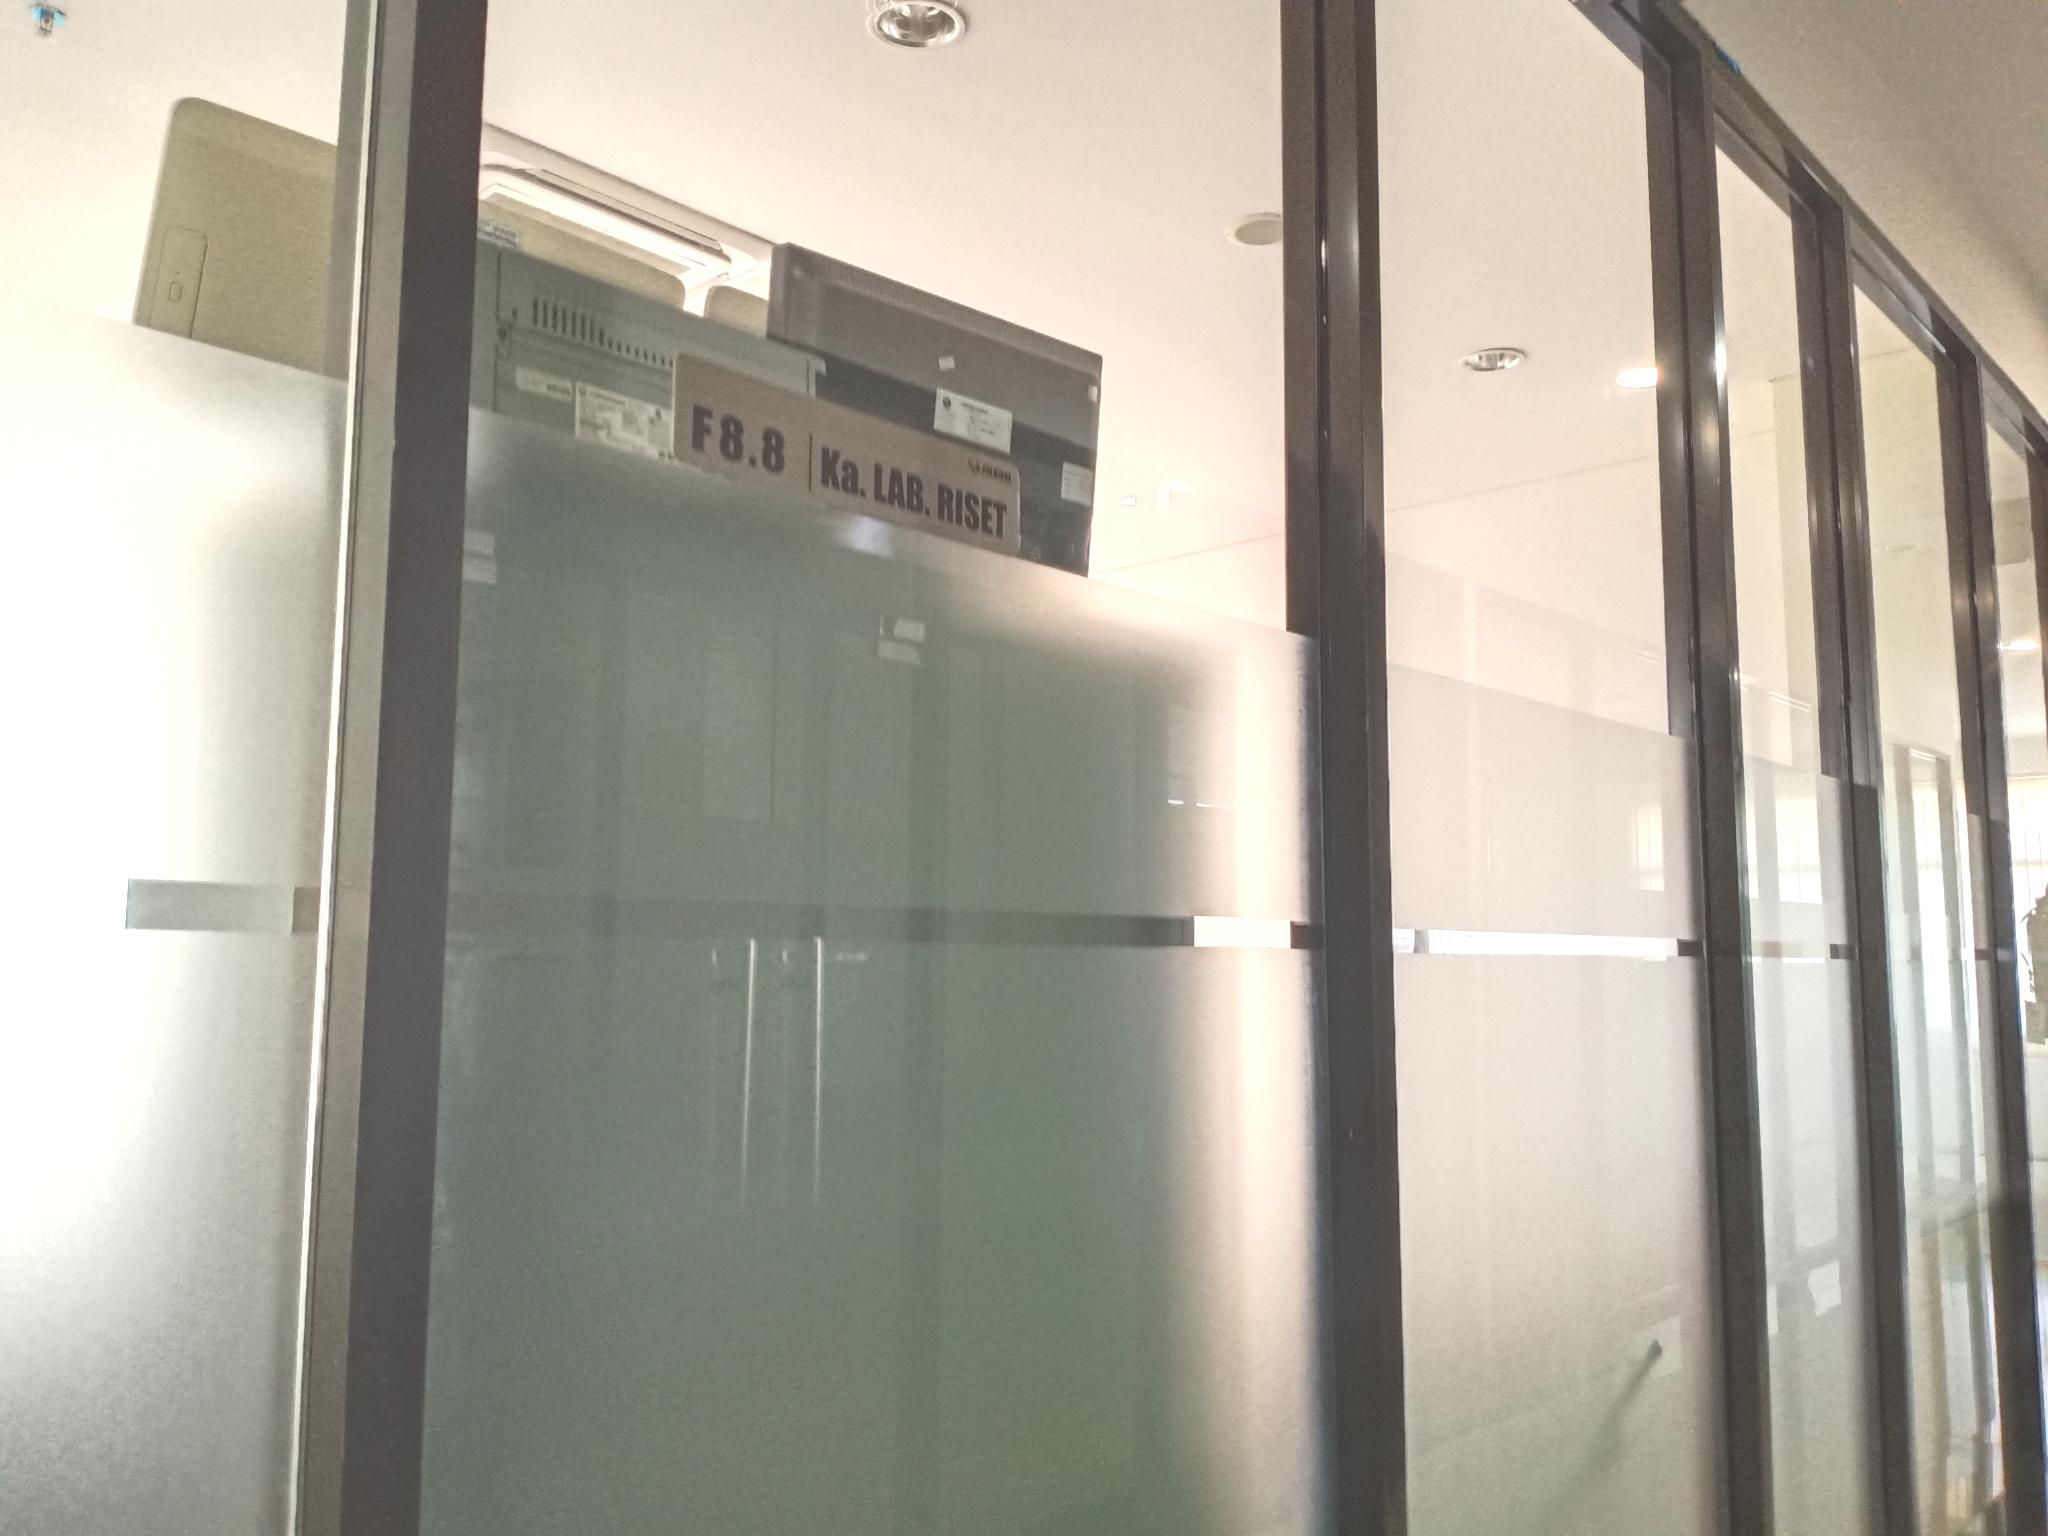plate: (671, 349, 1024, 558)
